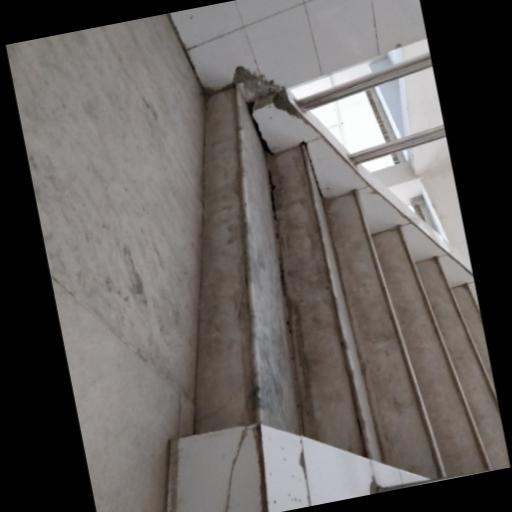stairs: (194, 88, 508, 478)
